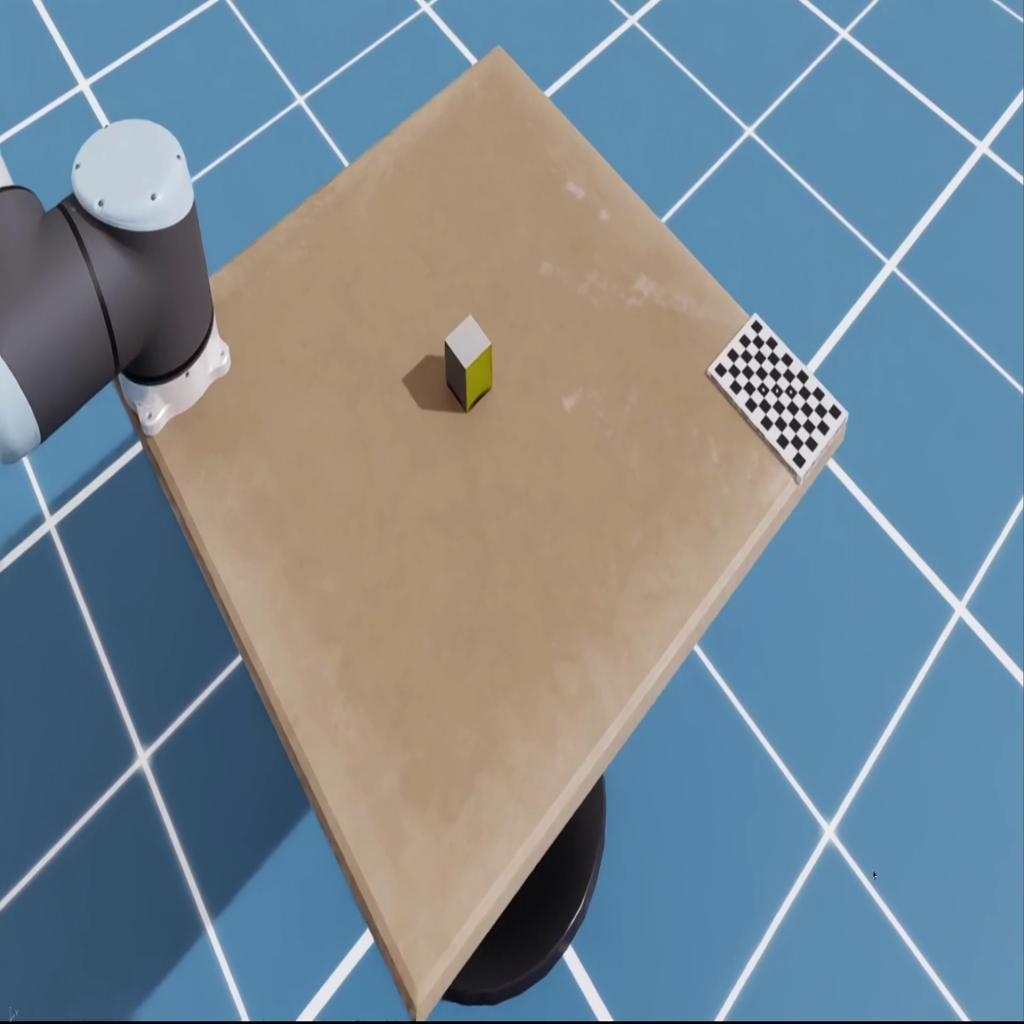Cube: (444, 312, 493, 412)
QR: (705, 310, 849, 484)
Robot: (0, 114, 230, 466)
Table: (116, 42, 850, 1018)
